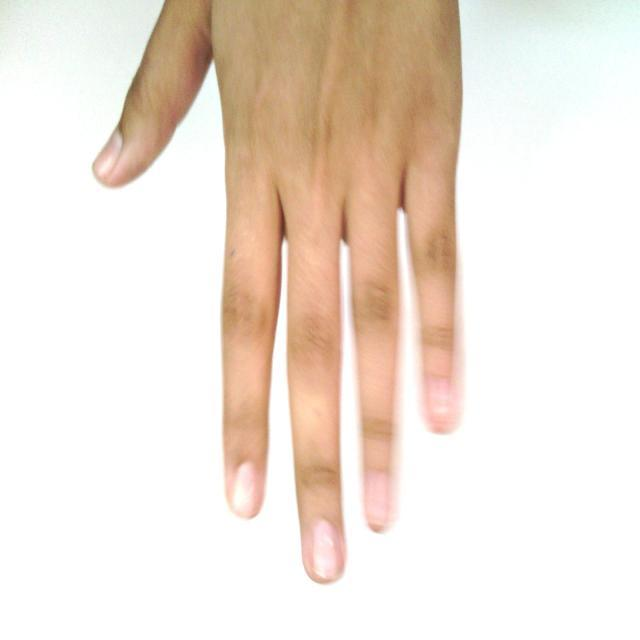Fingernail: (312, 519, 340, 580), (232, 464, 256, 516), (94, 132, 121, 174)
